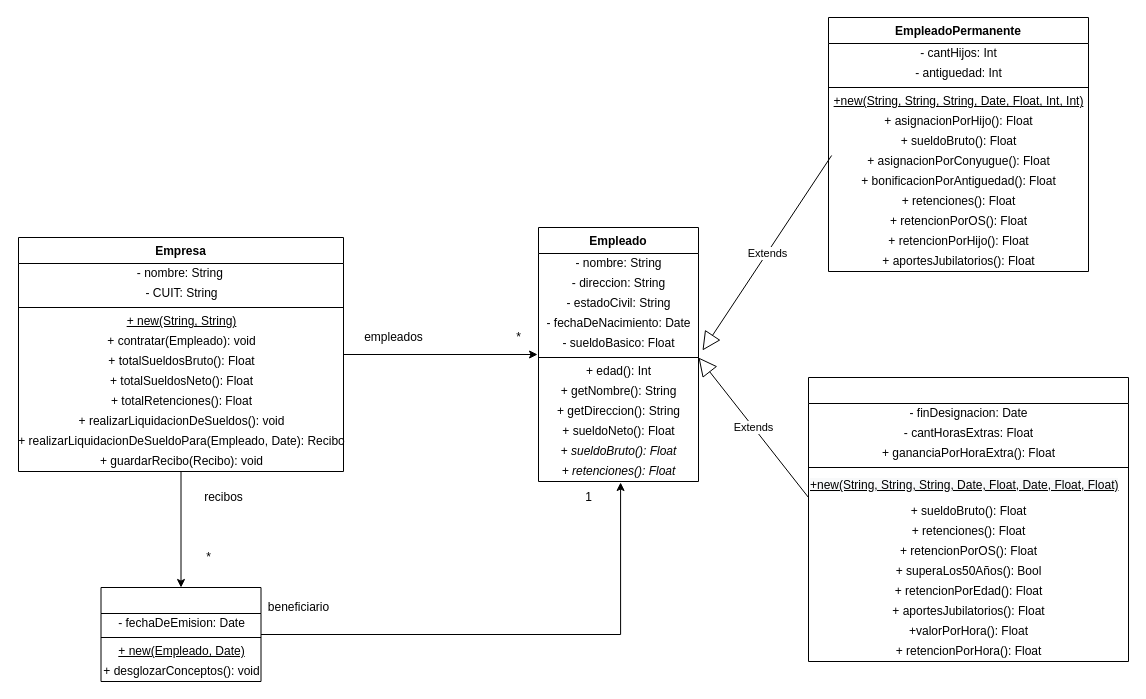
This 1146x699 diagram has some shape labels left out. Each missing label, with the box of its shape:
EmpleadoTemporal: (808, 376, 1128, 662)
Recibo: (100, 586, 261, 682)
